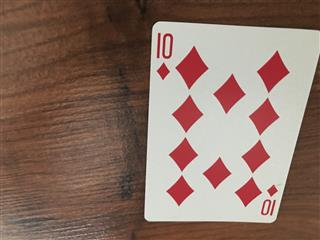TenOfDiamonds: (142, 19, 320, 223)
